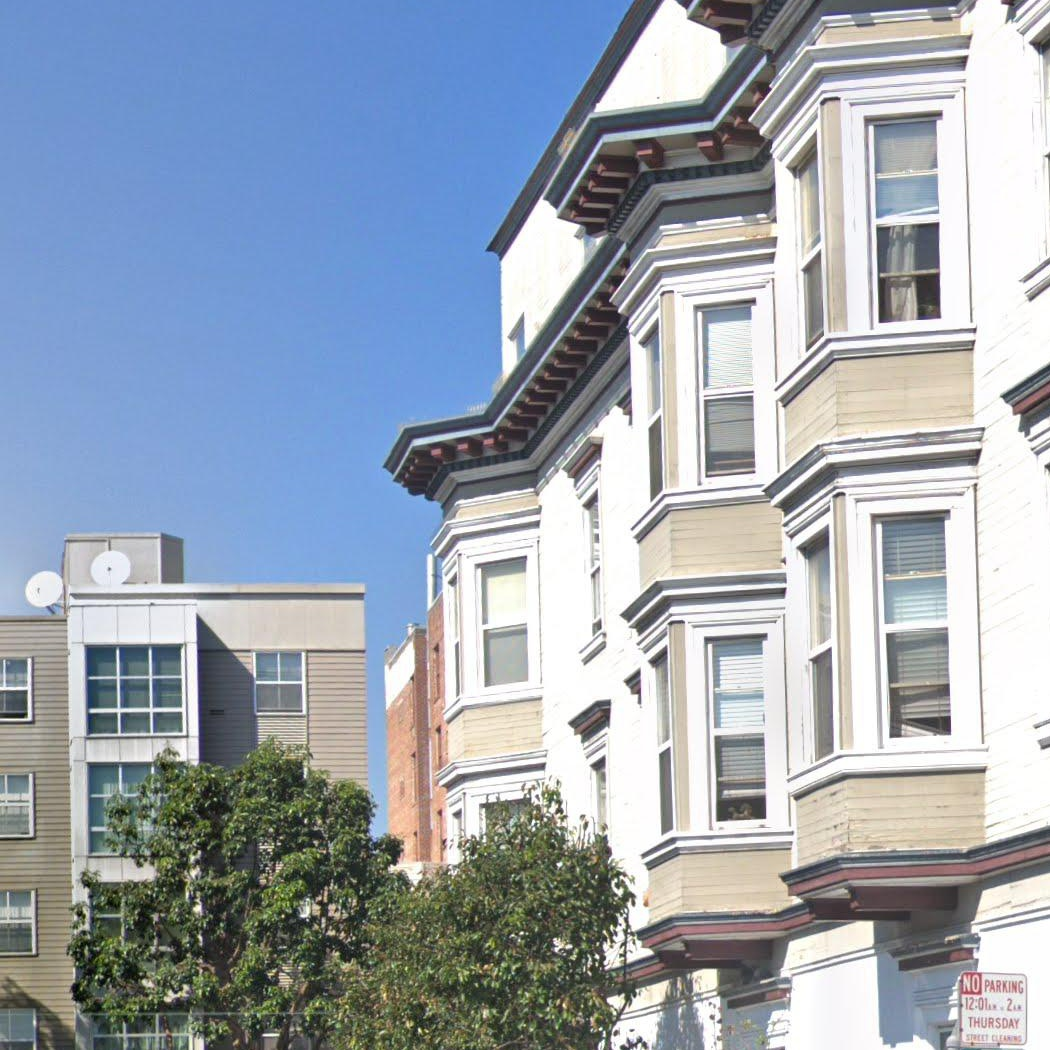No Parking: (956, 969, 1030, 1050)
